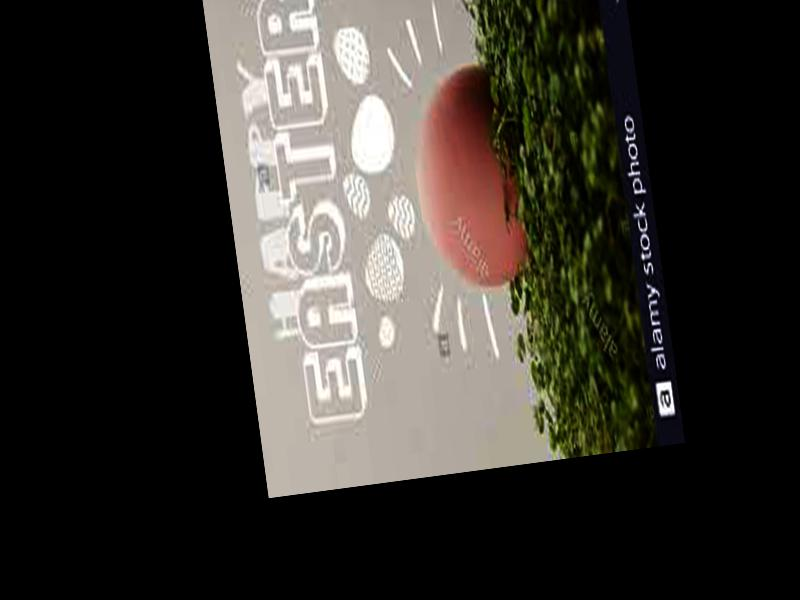Eggs: (404, 58, 532, 290)
